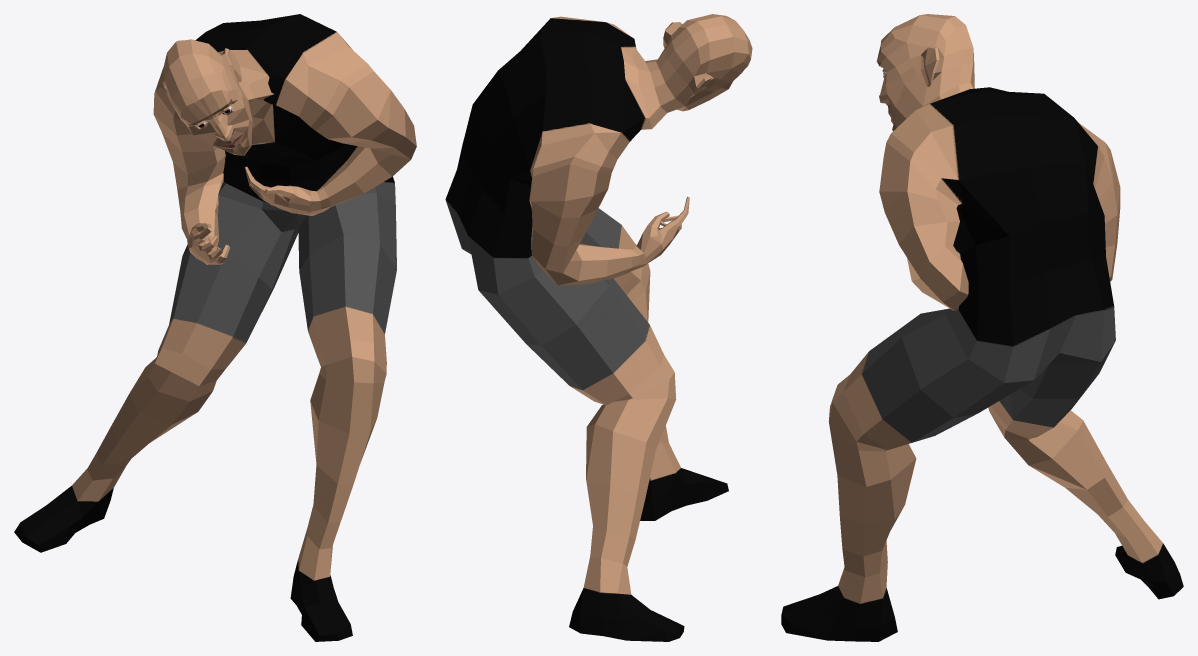
File: PlayerDead(26).obj
3 views of the same model, side by side, from view 1: azimuth 30°, elevation 25°; view 2: azimuth 150°, elevation 25°; view 3: azimuth 270°, elevation 25° (orthographic). The views are drawn at different scales.
Visible parts, largest first — view 1: Plane002; view 2: Plane002; view 3: Plane002.
Part boxes in pixels (box(x1,y1,x2,y2)): Plane002: box(14, 14, 416, 641); Plane002: box(445, 14, 752, 641); Plane002: box(781, 14, 1183, 641).
Size of the model in its own units: 750 by 1351 by 857.
